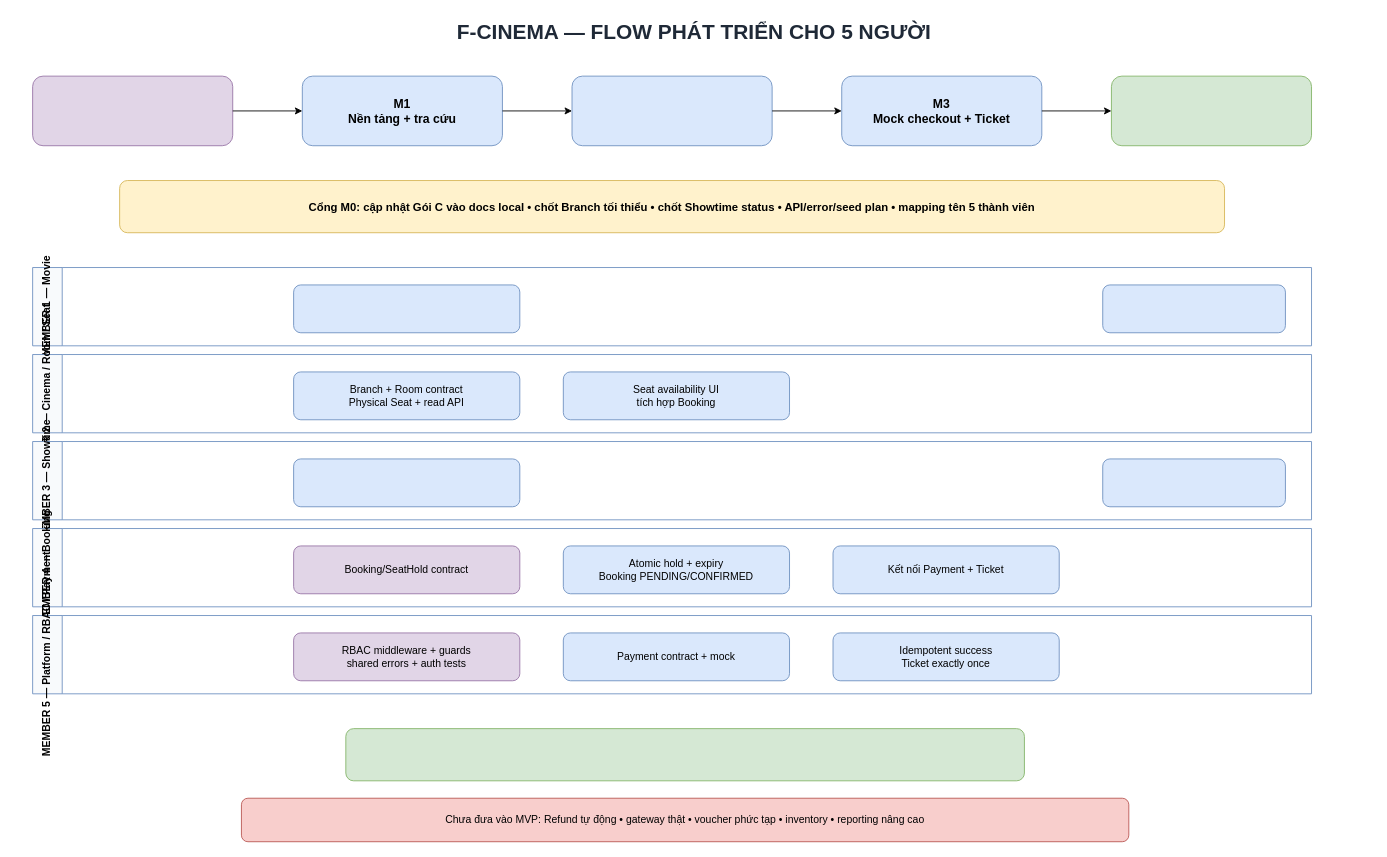
Image size: 1387x857. Some labels were removed from this diagram. Here are the shapes that lost their labels. From the top down, the centre of each, then its label:
At [132,110]: "M0 Chốt để bắt đầu".
At [671,110]: "M2 Đặt ghế cốt lõi".
At [1211,110]: "M4 Tích hợp + Demo".
At [406,308]: "Movie model + seed Read API + C01/C02".
At [1193,308]: "Manager Movie CRUD".
At [406,482]: "Showtime contract + API filter + overlap + C08/C09".
At [1193,482]: "Manager Showtime Scheduler UI".
At [684,754]: "Mốc tích hợp: chỉ merge khi contract → test → reviewer → develop đều đạt".
